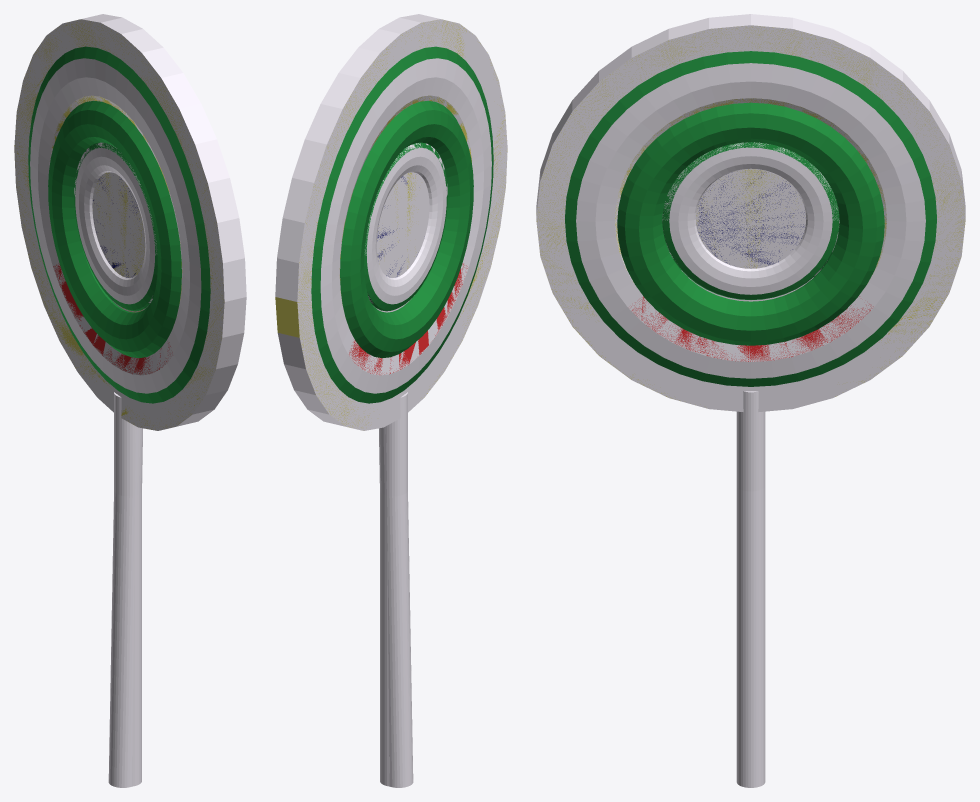
File: LoliPop.fbx
The picture shows the model from 3 angles, left to right: view 1: azimuth 30°, elevation 25°; view 2: azimuth 150°, elevation 25°; view 3: azimuth 270°, elevation 25°; orthographic projection. The views are drawn at different scales.
Visible parts, largest first — view 1: Cylinder; view 2: Cylinder; view 3: Cylinder.
Part boxes in pixels (bbox=[...]): Cylinder: bbox=[14, 14, 246, 787]; Cylinder: bbox=[275, 14, 507, 787]; Cylinder: bbox=[536, 14, 965, 787].
Size of the model in its own units: 52.09 by 753 by 383.
